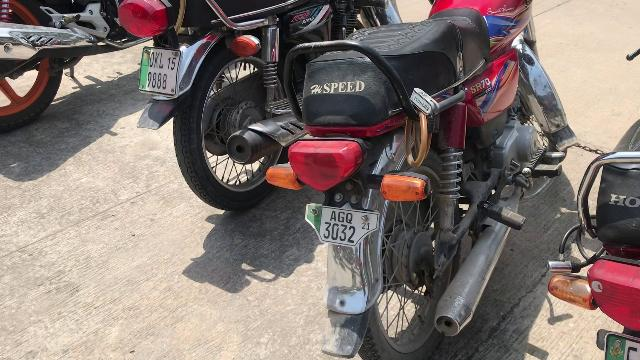plate: (301, 199, 389, 241)
